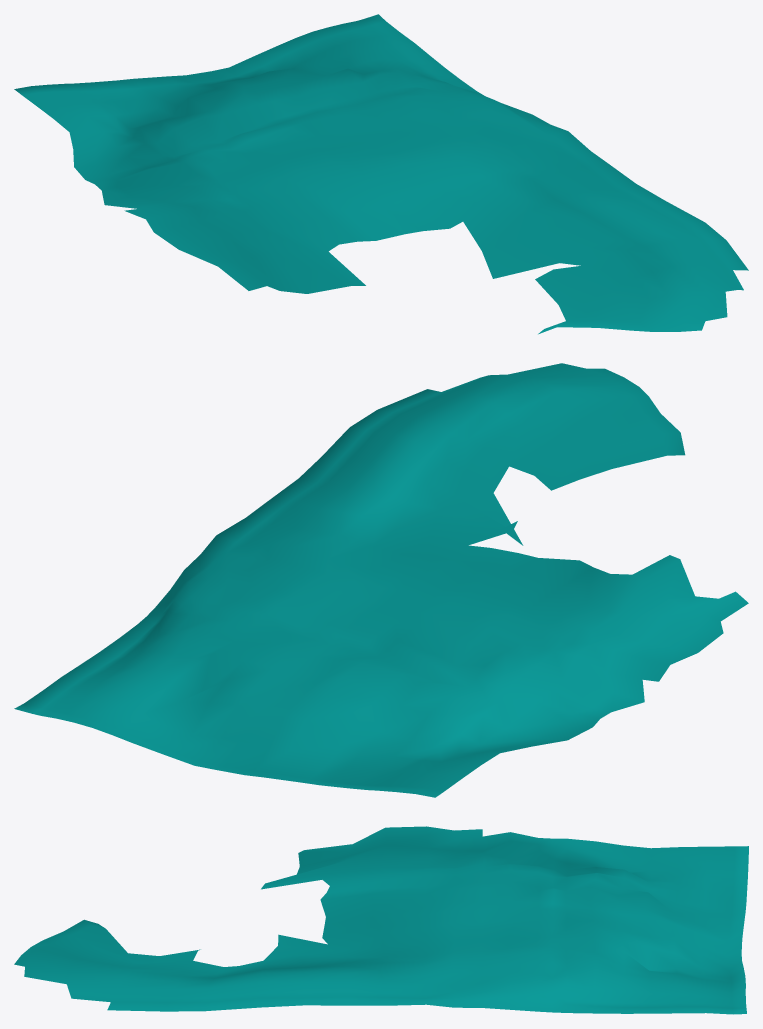
Rendered from beach_flatt_good_hope_02.fbx.
3 renders of one model, top to bottom at view 1: azimuth 30°, elevation 25°; view 2: azimuth 150°, elevation 25°; view 3: azimuth 270°, elevation 25°, orthographic. The views are drawn at different scales.
Parts seen in each view (by area): view 1: terrain_beach_official_uv_Flatter_2; view 2: terrain_beach_official_uv_Flatter_2; view 3: terrain_beach_official_uv_Flatter_2.
Part boxes in pixels (x1,y1,x2,y2): terrain_beach_official_uv_Flatter_2: (14, 14, 748, 334); terrain_beach_official_uv_Flatter_2: (14, 363, 748, 797); terrain_beach_official_uv_Flatter_2: (14, 826, 748, 1014).
Bounding box in the file's own units: 258 × 28.39 × 436.
